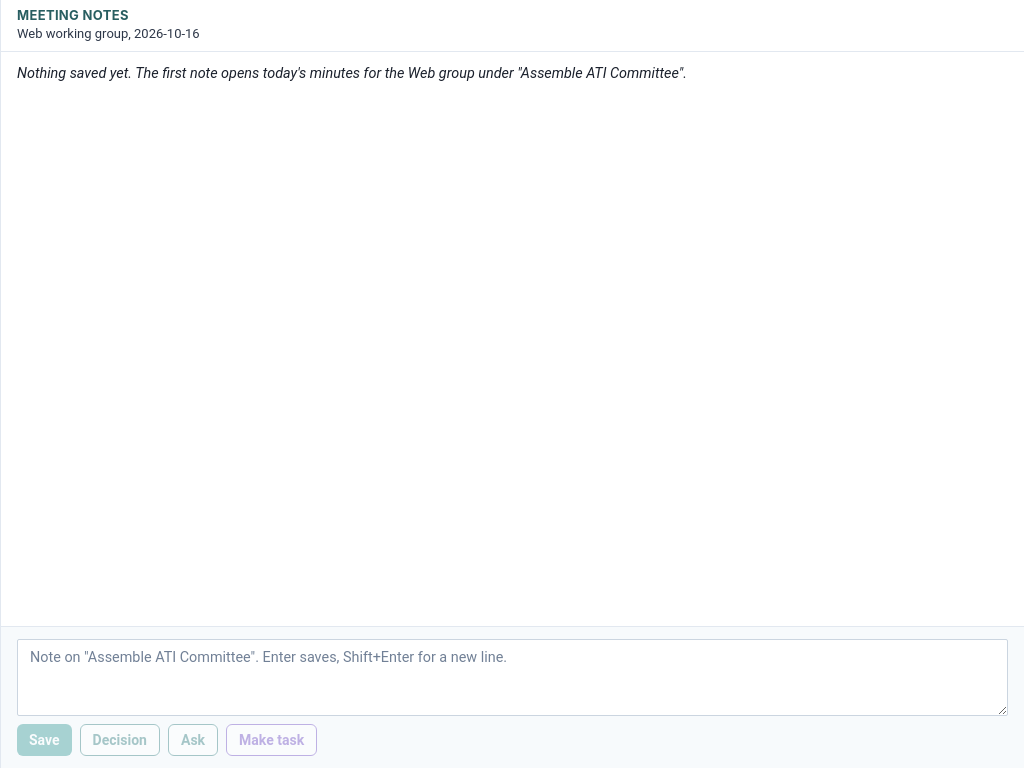
Scenario: NotesPad › surfaces a save error inline and puts the draft back
Step 1. Type "x" into the text box named "Meeting note" → (512, 677), box x1=17 y1=639 x2=1008 y2=716
Then press Enter
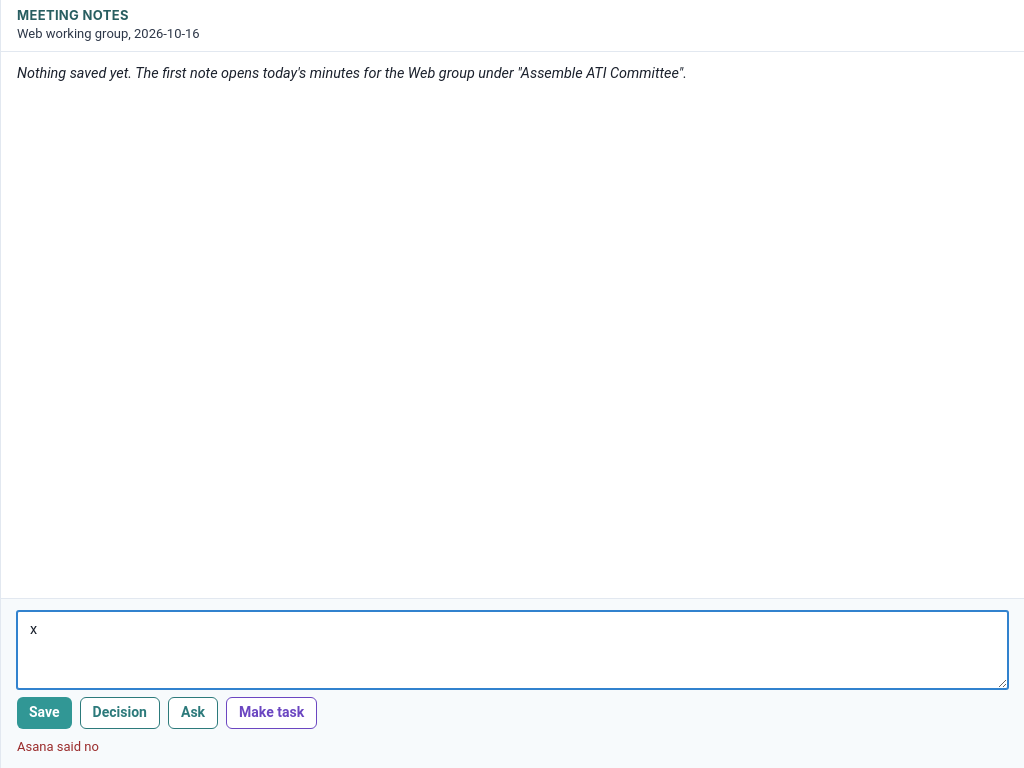
expect the message reads "Asana said no": met, box x1=17 y1=738 x2=99 y2=754
